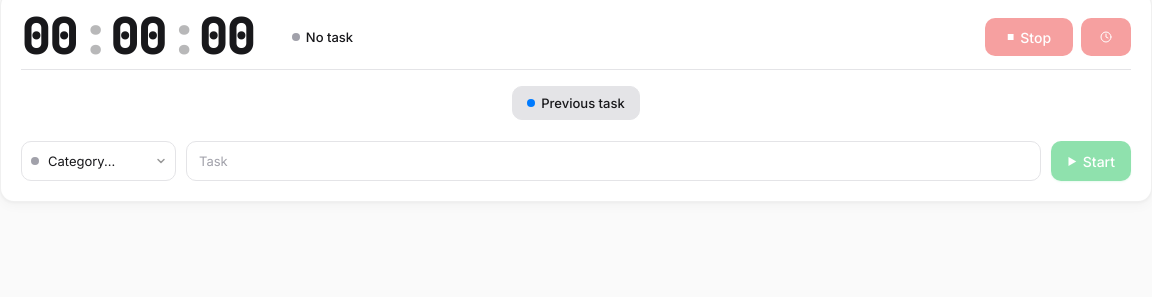
Test: TimeTracker › handles suggestion click
The width and height of the screenshot is (1152, 297).
# Select a category first
Select "Development" in the dropdown: (98, 161) [21,141,176,181]
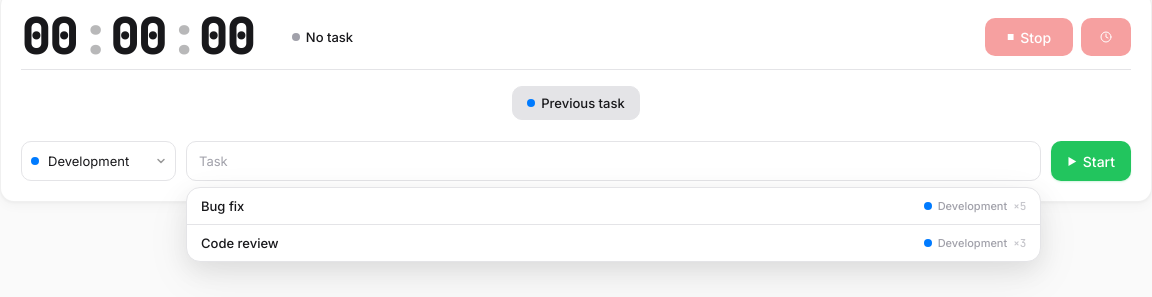
# Type in description to show suggestions
In the field with placeholder "Task": (614, 161) [186,141,1042,181], type "Bug"
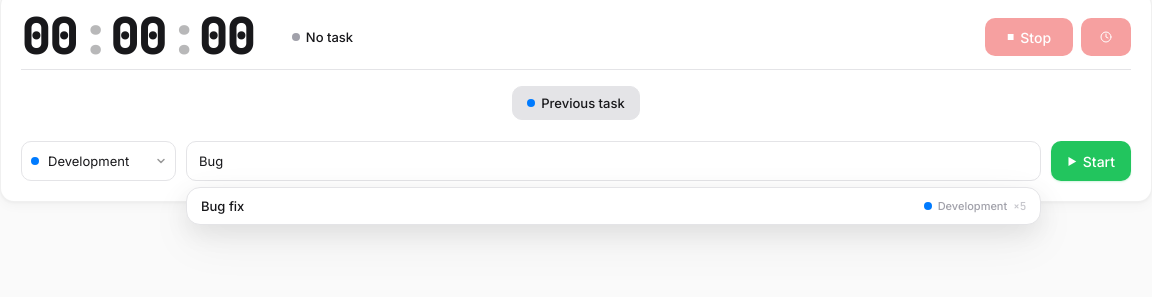
Expected: the text "Bug fix" is shown, [201,198,244,214]
Expected: the button "Bug fix Development ×5" is shown
Click the button "Bug fix Development ×5": (223, 206) [187,188,1040,224]
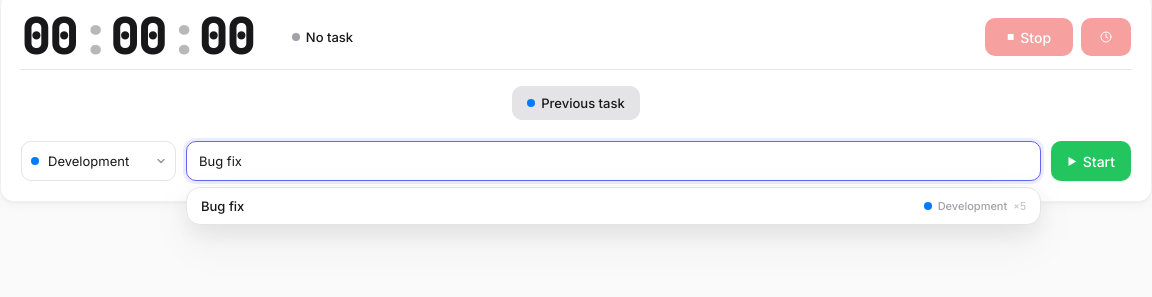
Expected: the field with placeholder "Task" holds "Bug fix", [186,141,1042,181]
